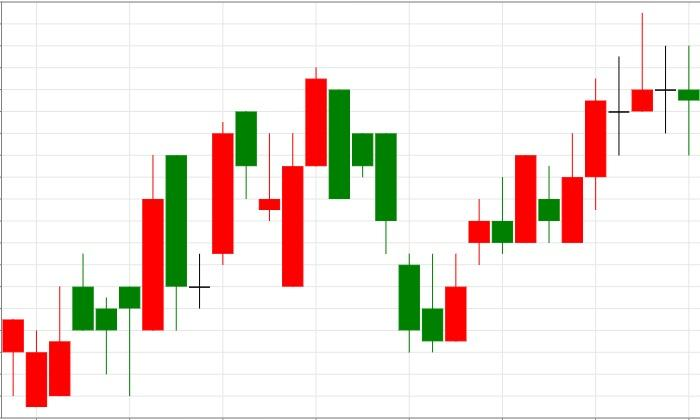inverse_hammer_rise: (328, 89, 443, 352)
shooting_star_fall: (445, 11, 653, 342)
